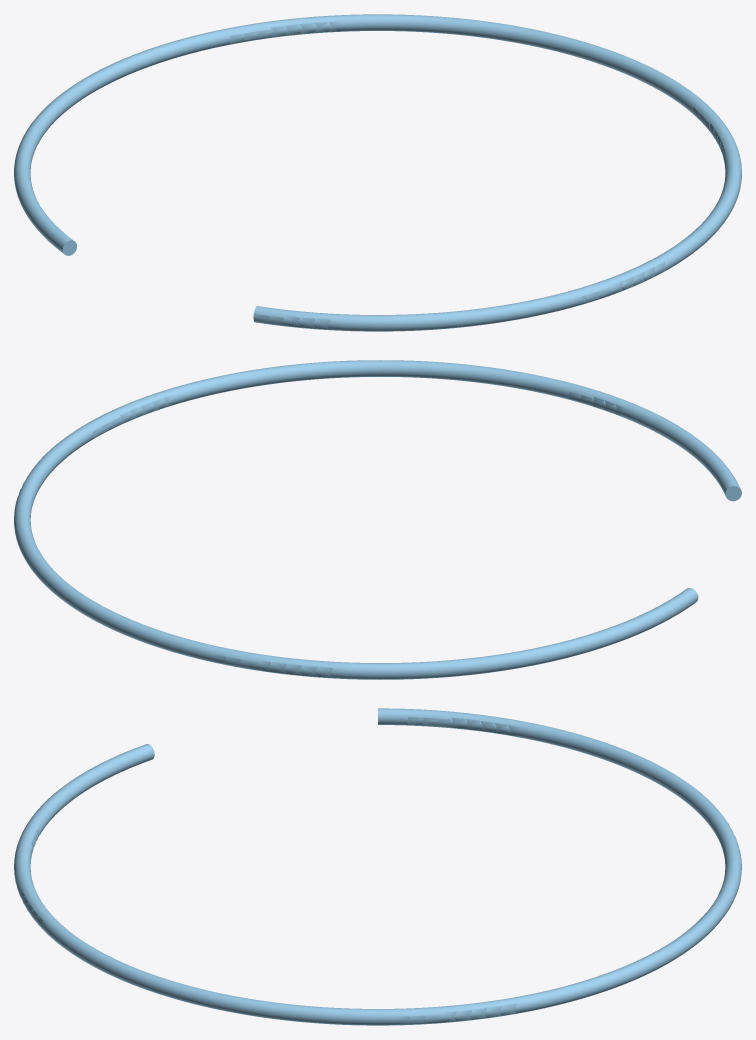
Rendered from Exc_Ball_Bearing_1611_0514_4008.obj.
3 renders of one model, top to bottom at view 1: azimuth 30°, elevation 25°; view 2: azimuth 150°, elevation 25°; view 3: azimuth 270°, elevation 25°, orthographic.
Parts seen in each view (by area): view 1: mesh28534; view 2: mesh28534; view 3: mesh28534.
Boxes of the visible parts, bbox=[...] form: mesh28534: bbox=[14, 14, 741, 331]; mesh28534: bbox=[14, 360, 741, 679]; mesh28534: bbox=[14, 708, 741, 1025].
Bounding box in the file's own units: 0.0131 × 0.000298 × 0.0131.
